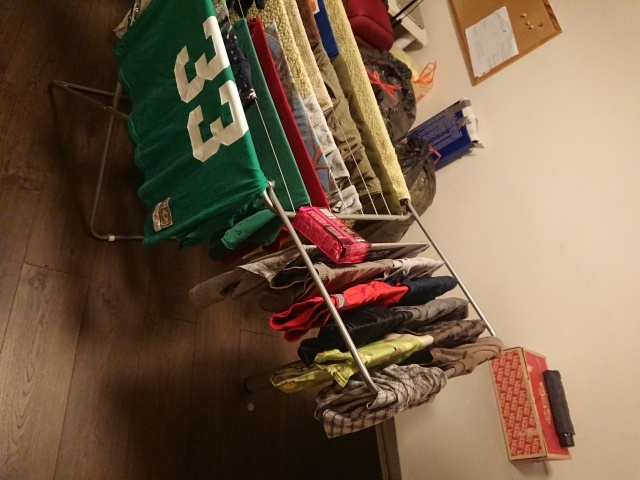Barcaffe Classic Original 225g: (291, 204, 372, 268)
